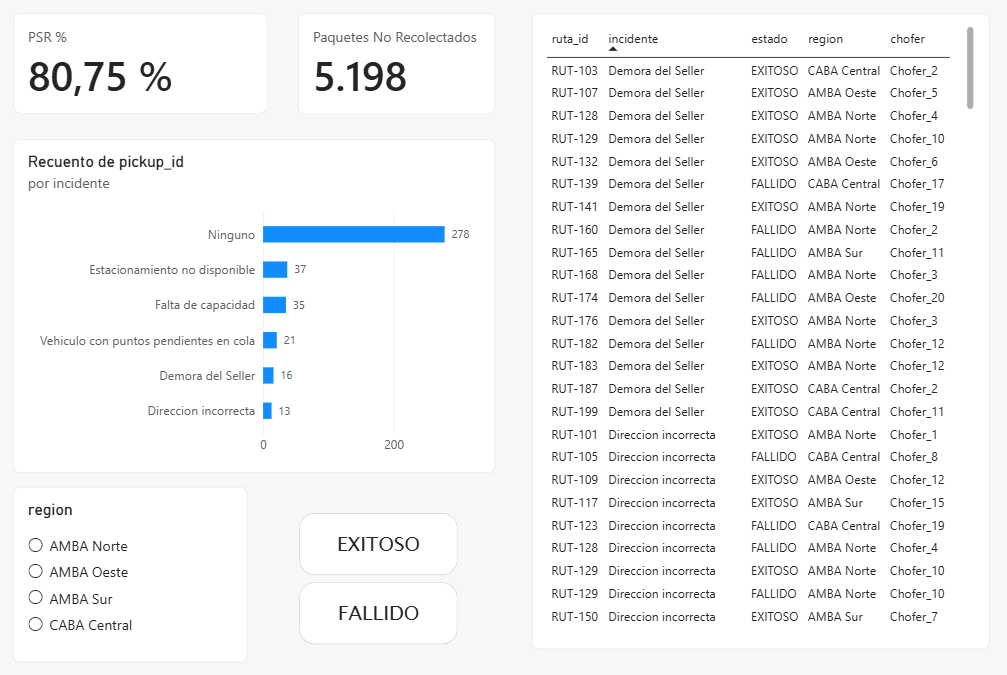

This screenshot's page, from the dashboard's own definition file:
{"tool":"powerbi","page":{"name":"Página 1","canvas":[1920,1080],"ordinal":0},"visuals":[{"type":"cardVisual","fields":{"Data":["dim_rutas.PSR %"]},"box":[51.4,22.9,291.1,115.6],"z":0},{"type":"clusteredBarChart","fields":{"Category":["fact_pickups.incidente"],"Y":["CountNonNull(fact_pickups.pickup_id)"]},"box":[51.4,167.1,551.4,381.4],"z":1000},{"type":"listSlicer","fields":{"Values":["dim_rutas.region"]},"box":[51.4,564.3,268,201],"z":2000},{"type":"cardVisual","fields":{"Data":["dim_rutas.Paquetes No Recolectados (texto)1"]},"box":[377.6,22.9,225,116.3],"z":3000},{"type":"tableEx","fields":{"Values":["fact_pickups.ruta_id","fact_pickups.incidente","fact_pickups.estado","dim_rutas.region","dim_rutas.chofer"]},"box":[644.6,22.9,522.9,727.1],"z":4000},{"type":"advancedSlicerVisual","fields":{"Values":["fact_pickups.estado"]},"box":[378.6,574.3,181.4,191.4],"z":5000}]}

Visuals, with their boxes on the page's 1920x1080 design canvas (x1, y1, x2, y2). These are canvas units, not pixel positions in the 1007x675 screenshot, which may show the page scaled, cropped or inside an application window:
cardVisual - dim_rutas.PSR %: 51 23 342 138
clusteredBarChart - fact_pickups.incidente x CountNonNull(fact_pickups.pickup_id): 51 167 603 548
listSlicer - dim_rutas.region: 51 564 319 765
cardVisual - dim_rutas.Paquetes No Recolectados (texto)1: 378 23 603 139
tableEx - fact_pickups.ruta_id x fact_pickups.incidente: 645 23 1168 750
advancedSlicerVisual - fact_pickups.estado: 379 574 560 766
